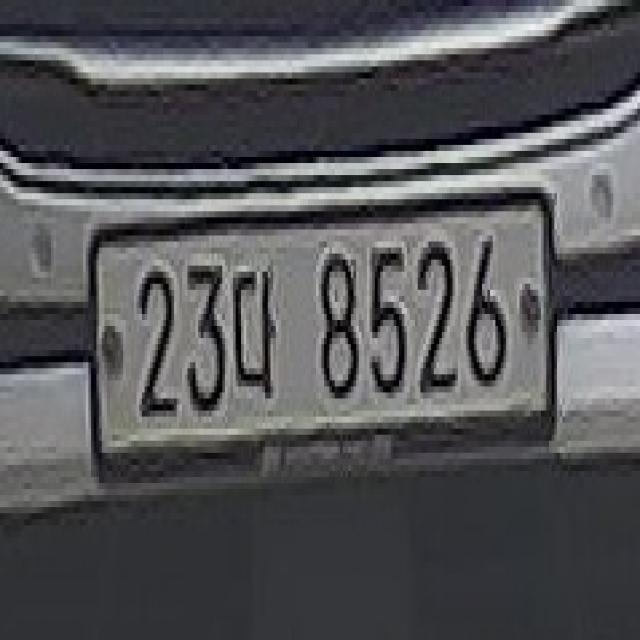2: (127, 245, 186, 444), (418, 225, 467, 411)
3: (183, 243, 232, 440)
5: (367, 231, 412, 413)
6: (464, 221, 520, 405)
8: (311, 242, 366, 418)
da: (228, 252, 287, 428)
license_plate: (93, 186, 553, 476)
